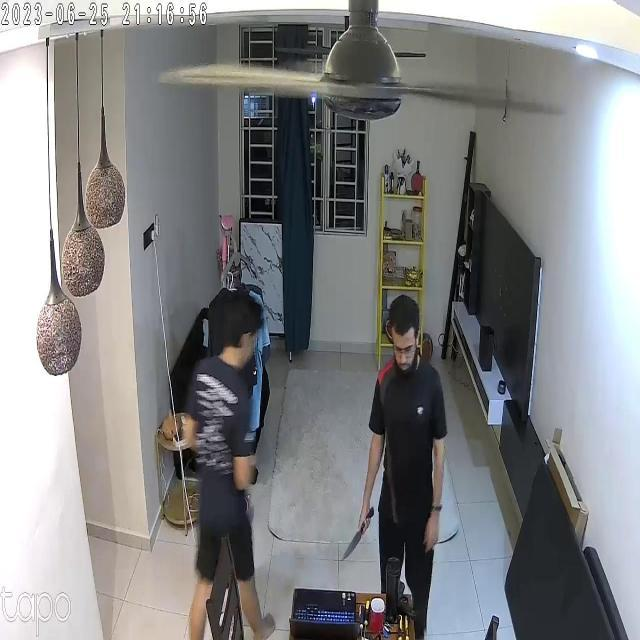Knife: (338, 503, 382, 559)
